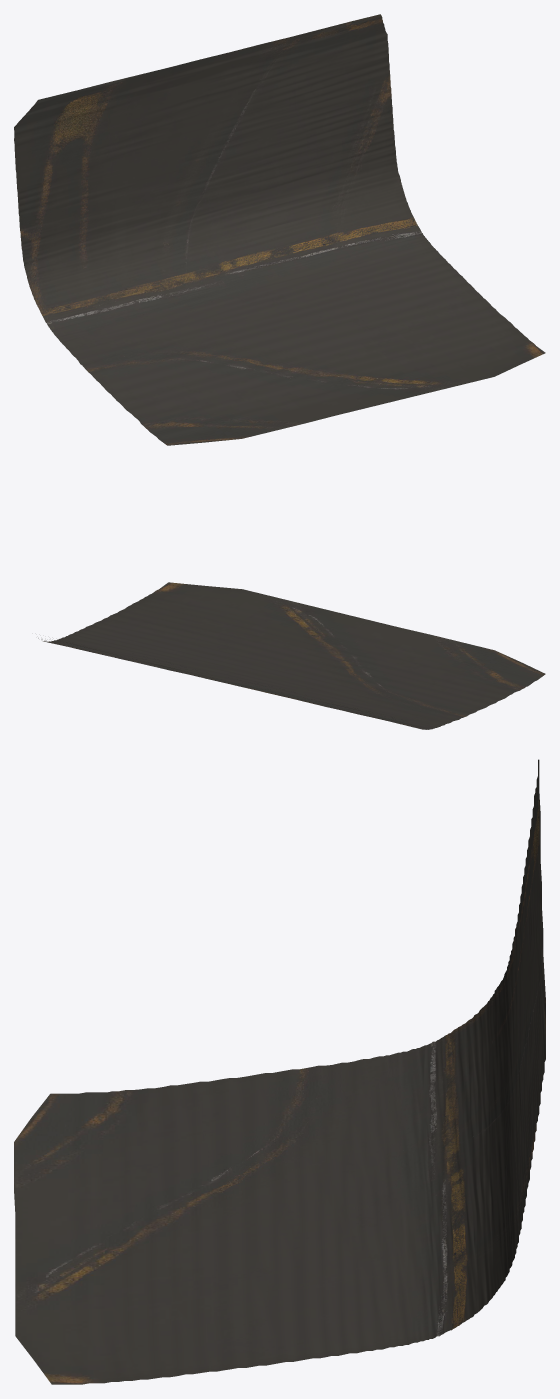
Rendered from selected.glb.
3 renders of one model, top to bottom at view 1: azimuth 30°, elevation 25°; view 2: azimuth 150°, elevation 25°; view 3: azimuth 270°, elevation 25°, orthographic. The views are drawn at different scales.
Visible parts, largest first — view 1: tripo_node_2e9af1e3-501c-42e3-a772-854275bbe1cf; view 2: tripo_node_2e9af1e3-501c-42e3-a772-854275bbe1cf; view 3: tripo_node_2e9af1e3-501c-42e3-a772-854275bbe1cf.
Part boxes in pixels (box(x1,y1,x2,y2)): tripo_node_2e9af1e3-501c-42e3-a772-854275bbe1cf: box(14, 14, 545, 445); tripo_node_2e9af1e3-501c-42e3-a772-854275bbe1cf: box(38, 582, 545, 729); tripo_node_2e9af1e3-501c-42e3-a772-854275bbe1cf: box(14, 759, 545, 1384).
Bounding box in the file's own units: 0.998 × 0.5684 × 0.7715.
1 material, 1 textured.
